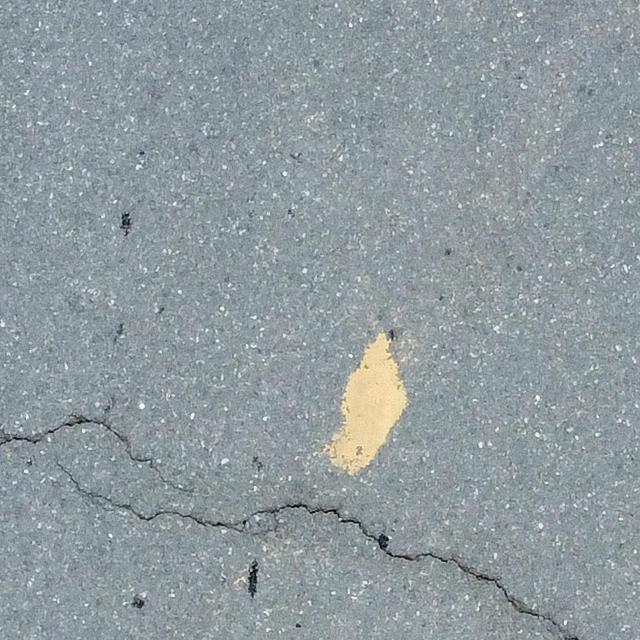TransverseCrack: (54, 461, 579, 640), (2, 401, 197, 496)
